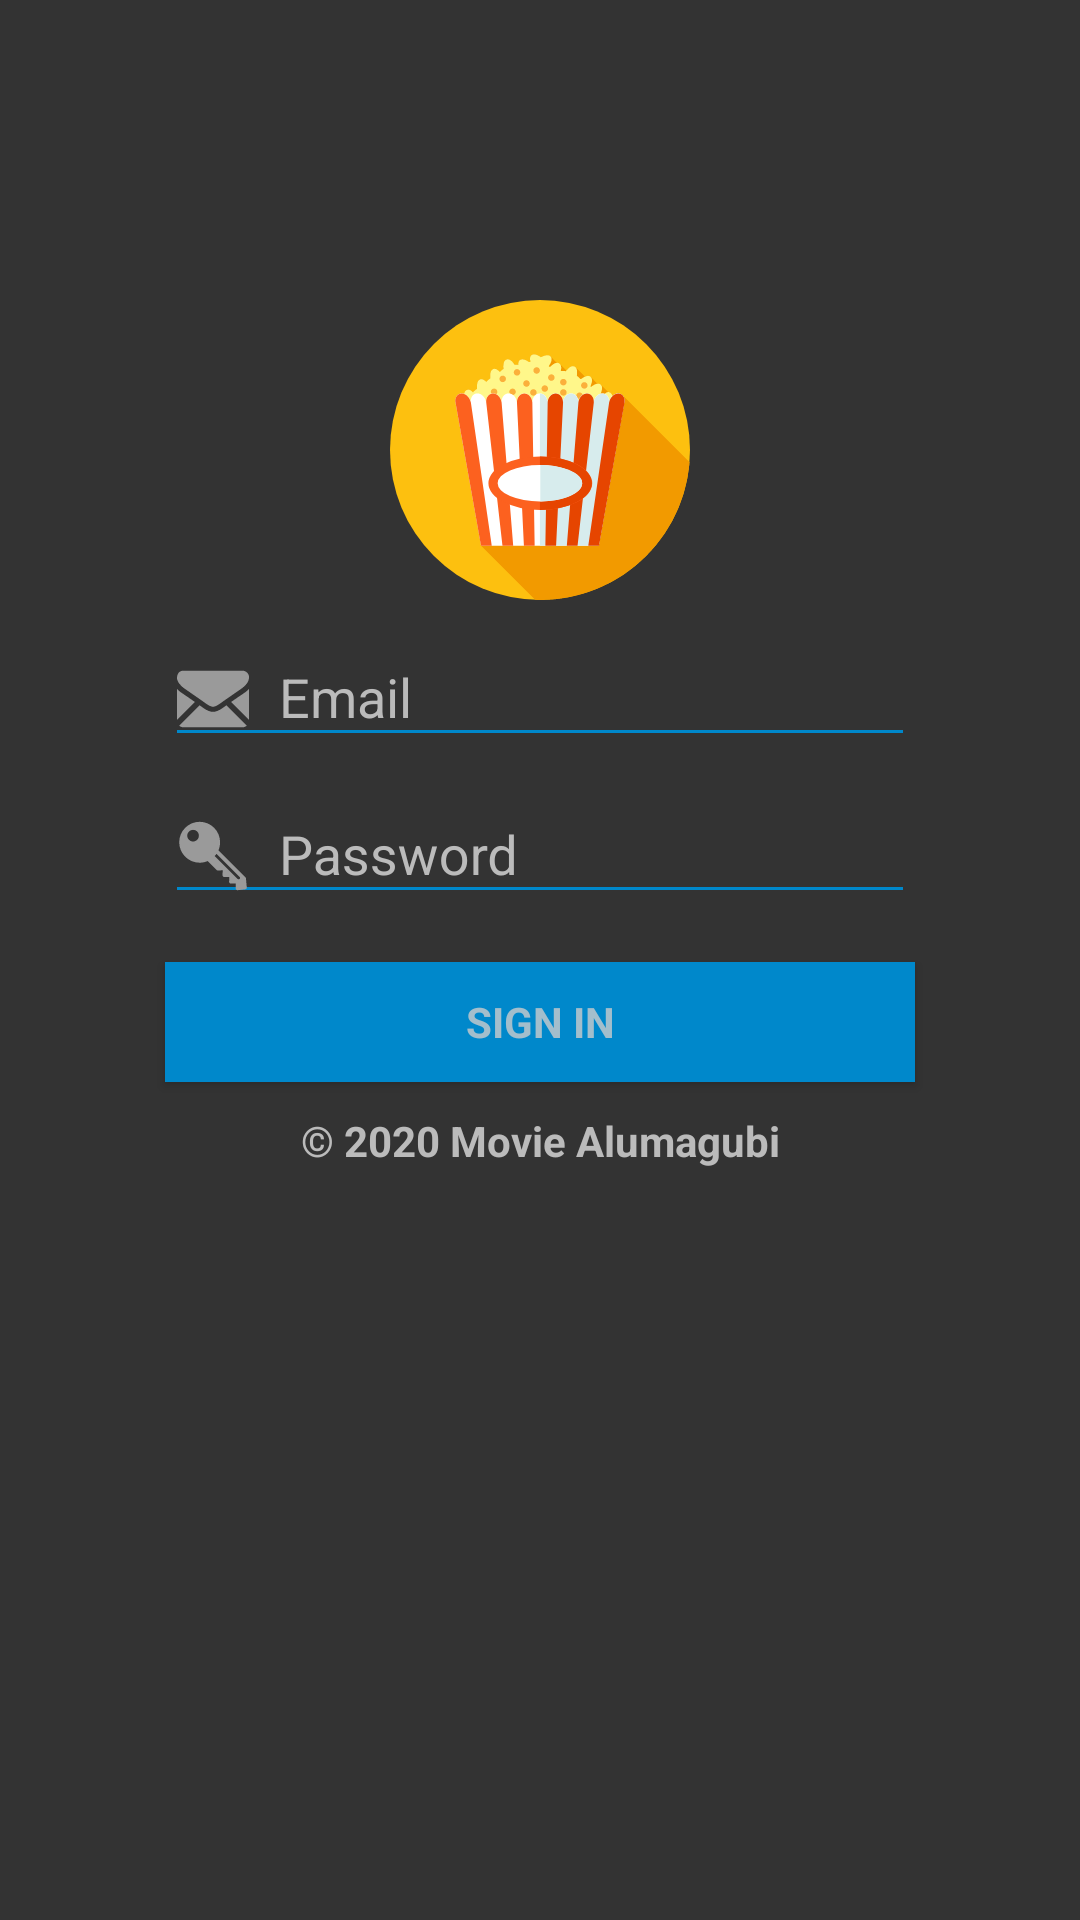

Icon bounding boxes for this 1080×1920 phone screenshot, format (x1, y1, x2, y2):
popcorn: (390, 300, 690, 600)
